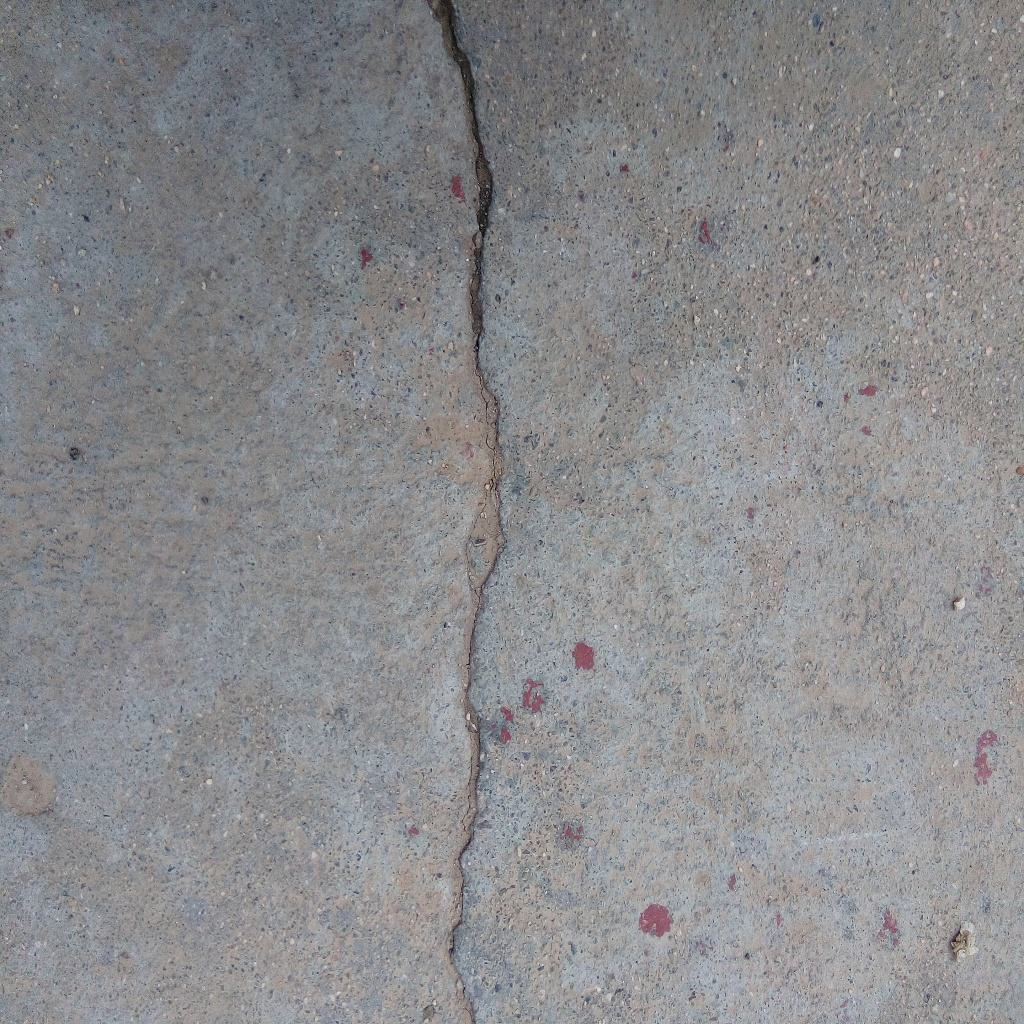Crack: (422, 1, 510, 1024)
